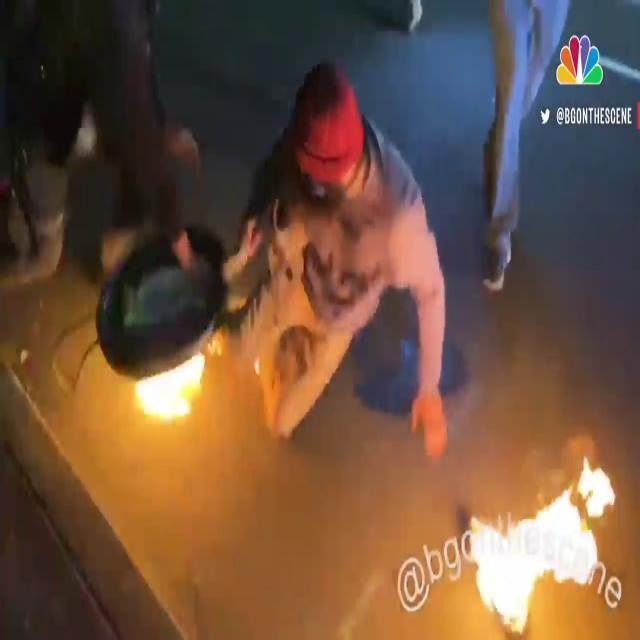Fire: (444, 440, 630, 636), (132, 341, 210, 429)
